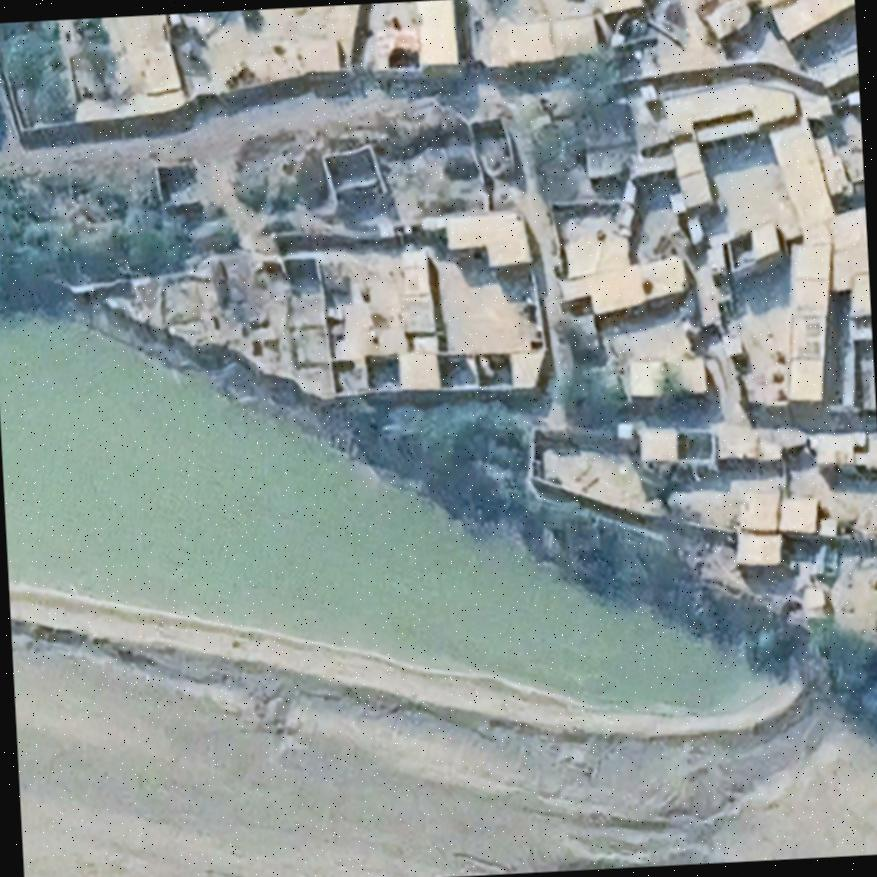Solarpanel: (791, 316, 823, 360)
